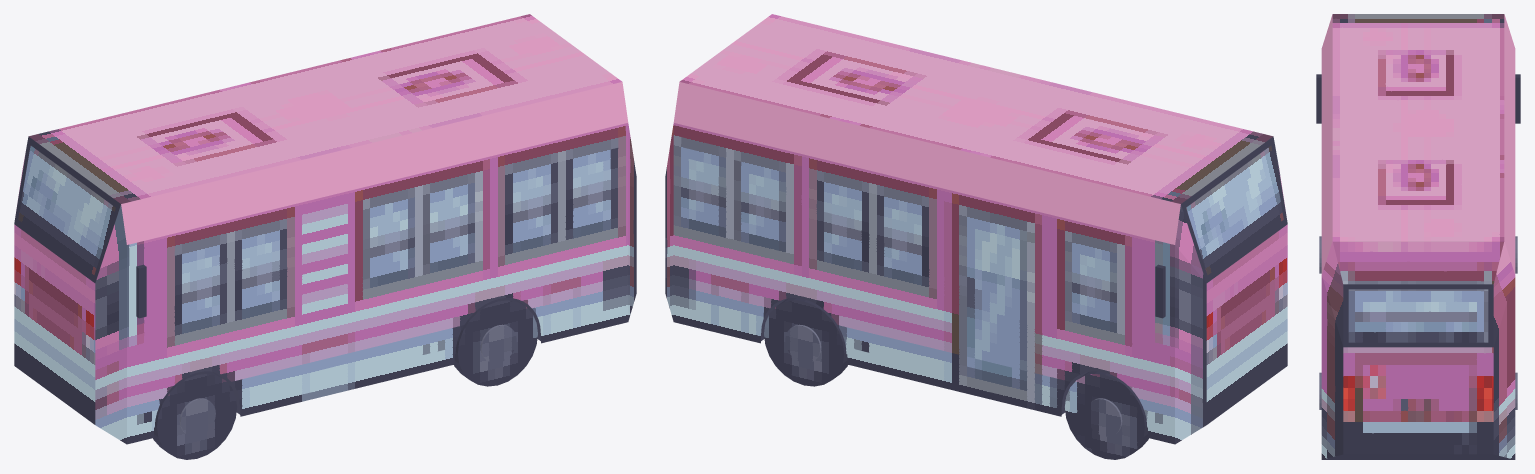
The model's file is bus-3-v1.glb.
3 views of the same model, side by side, from view 1: azimuth 30°, elevation 25°; view 2: azimuth 150°, elevation 25°; view 3: azimuth 270°, elevation 25° (orthographic). The views are drawn at different scales.
Visible parts, largest first — view 1: Bus-body-west, Roof, Roof-shoulder-west, Front-fascia, Windshield-glass, Front-corner-west, Tire_FL, Tire_RL, Windshield-frame, Rear-corner-west, Hub_FL, Hub_RL (+1 smaller); view 2: Bus-body-east, Roof, Roof-shoulder-east, Front-fascia, Windshield-glass, Front-corner-east, Tire_FR, Tire_RR, Windshield-frame, Rear-corner-east, Hub_FR, Hub_RR (+1 smaller); view 3: Roof, Rear-fascia, Rear-window-glass, Rear-roof-edge, Rear-corner-east, Rear-corner-west, Roof-shoulder-east, Roof-shoulder-west, Rear-window-frame, Rear-roof-corner-east, Rear-roof-corner-west, Underfloor-rear-bevel (+2 smaller).
Part boxes in pixels (x1,y1,x2,y2): Bus-body-west: [127, 123, 628, 444]; Roof: [29, 14, 621, 203]; Roof-shoulder-west: [121, 82, 628, 244]; Front-fascia: [14, 224, 95, 424]; Windshield-glass: [18, 145, 115, 274]; Front-corner-west: [95, 245, 126, 444]; Tire_FL: [153, 371, 236, 459]; Tire_RL: [454, 298, 537, 386]; Windshield-frame: [14, 136, 120, 282]; Rear-corner-west: [628, 124, 636, 321]; Hub_FL: [179, 398, 215, 436]; Hub_RL: [480, 324, 516, 363]; Bus-body-east: [673, 123, 1174, 444]; Roof: [680, 14, 1272, 203]; Roof-shoulder-east: [673, 82, 1180, 244]; Front-fascia: [1206, 224, 1287, 424]; Windshield-glass: [1186, 145, 1283, 274]; Front-corner-east: [1175, 245, 1206, 444]; Tire_FR: [1065, 371, 1148, 459]; Tire_RR: [764, 298, 847, 386]; Windshield-frame: [1181, 136, 1287, 282]; Rear-corner-east: [665, 124, 673, 321]; Hub_FR: [1086, 398, 1122, 436]; Hub_RR: [785, 324, 821, 363]; Roof: [1332, 14, 1504, 240]; Rear-fascia: [1343, 347, 1493, 454]; Rear-window-glass: [1348, 289, 1488, 342]; Rear-roof-edge: [1332, 241, 1504, 284]; Rear-corner-east: [1493, 275, 1515, 459]; Rear-corner-west: [1321, 275, 1343, 459]; Roof-shoulder-east: [1504, 14, 1515, 274]; Roof-shoulder-west: [1321, 14, 1332, 274]; Rear-window-frame: [1343, 284, 1493, 347]; Rear-roof-corner-east: [1493, 241, 1514, 346]; Rear-roof-corner-west: [1322, 241, 1343, 346]; Underfloor-rear-bevel: [1322, 454, 1514, 459].
Bounding box in the file's own units: 108 × 51 × 38.
1 material, 1 textured.
